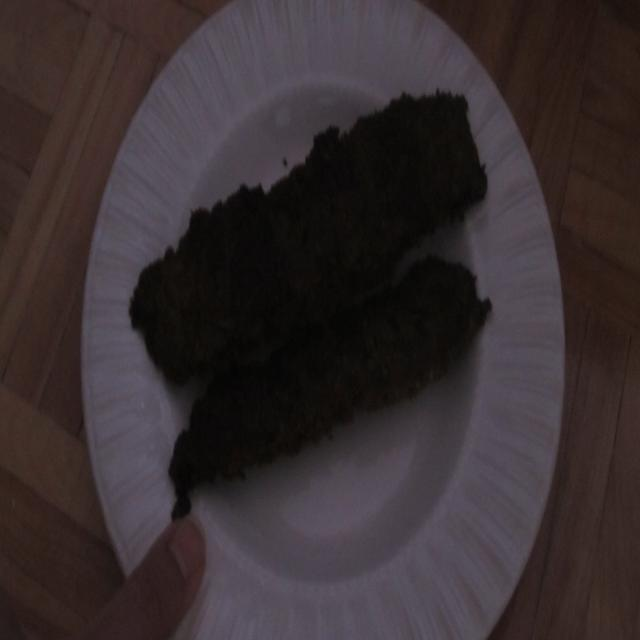cutlet: (128, 86, 512, 482)
